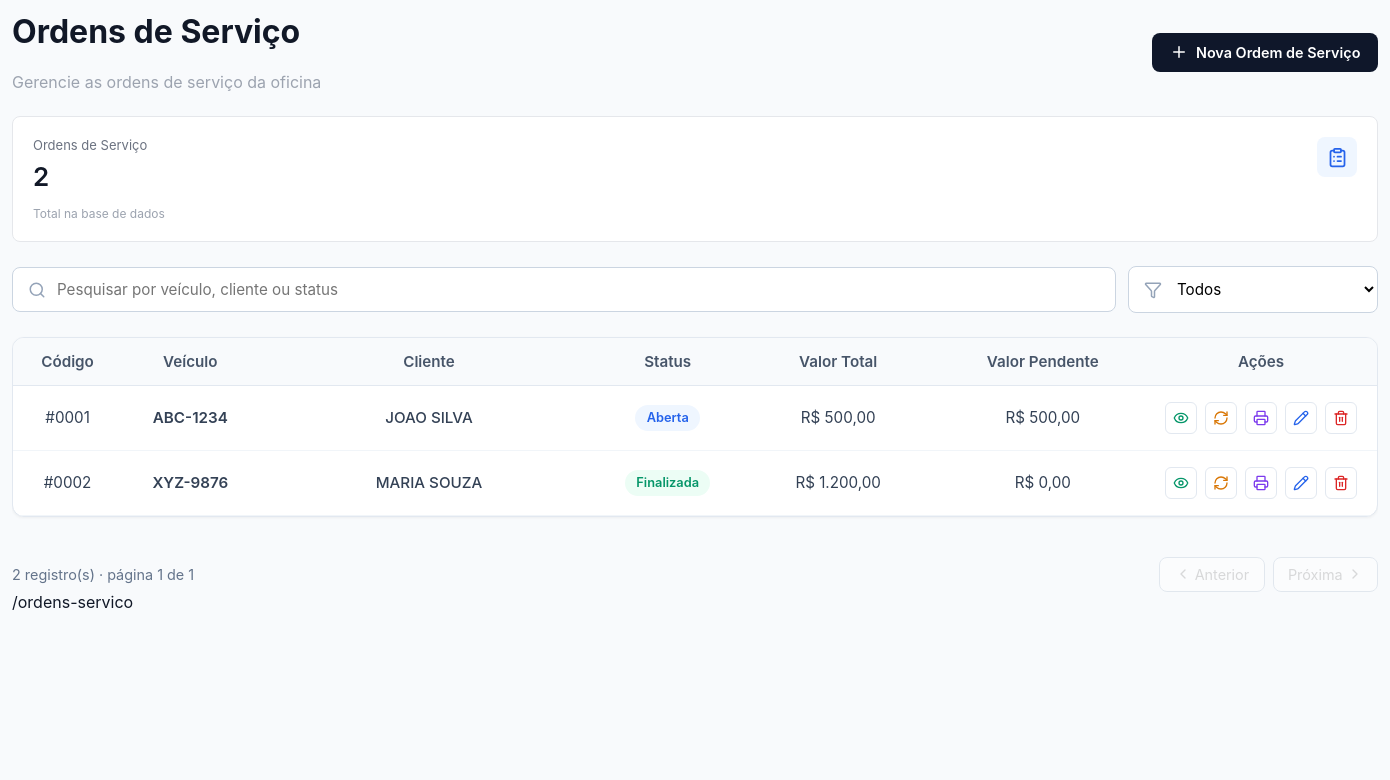
Scenario: Página de Ordens de Serviço › pesquisa e filtros (no servidor) › pesquisa sem resultado mostra mensagem de nada encontrado
Expected: the text "#0001" is shown, [13, 385, 122, 450]
Type "zzz" into the field with placeholder "Pesquisar por veículo, cliente ou status".
click(564, 290); type("zzz")  # box [12, 267, 1116, 312]
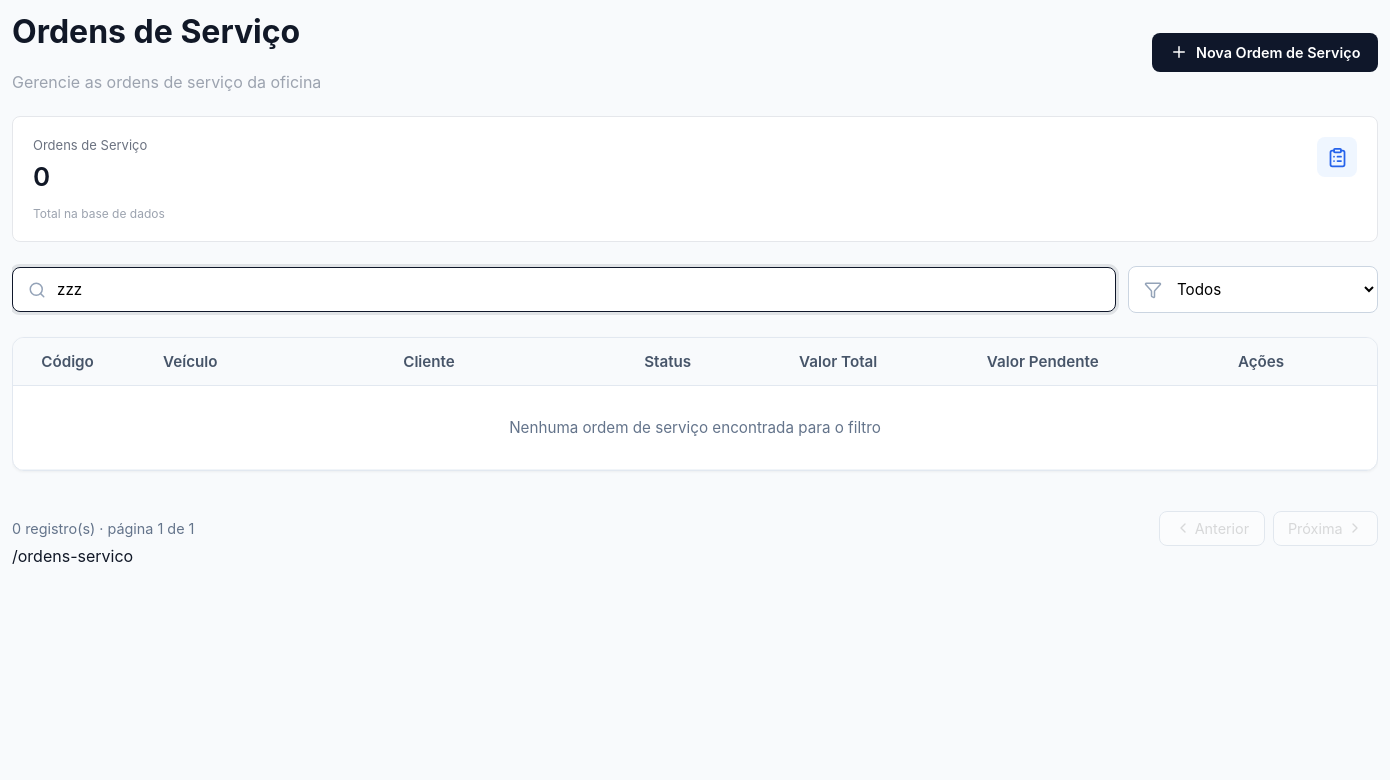
Expected: the text "Nenhuma ordem de serviço encontrada para o filtro" is shown, [13, 385, 1377, 469]
